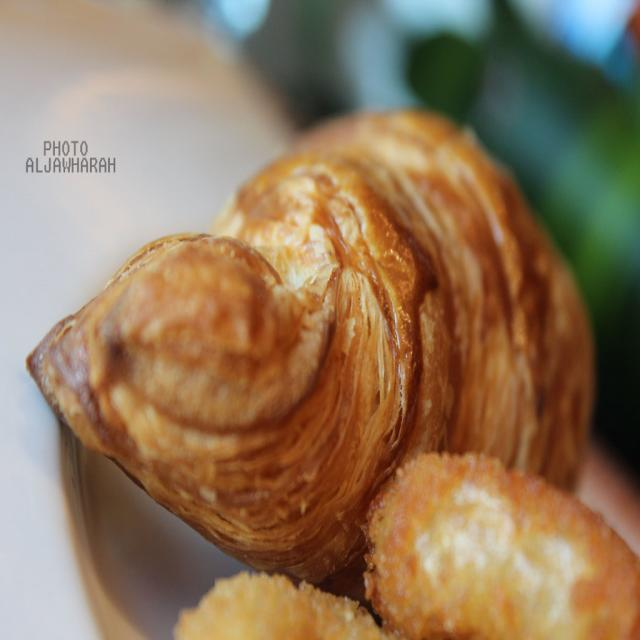Croissant: (27, 104, 598, 627)
